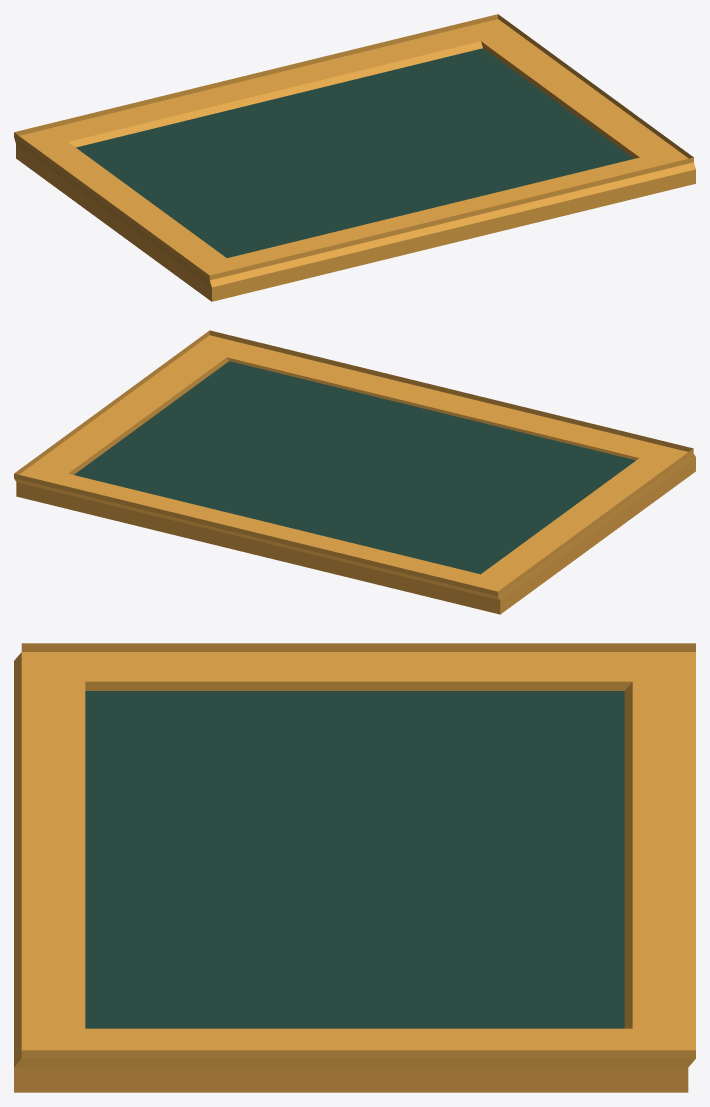
File: chalkboard.glb
The picture shows the model from 3 angles, top to bottom: view 1: azimuth 30°, elevation 25°; view 2: azimuth 150°, elevation 25°; view 3: azimuth 270°, elevation 25°; orthographic projection. The views are drawn at different scales.
Visible parts, largest first — view 1: Cube; view 2: Cube; view 3: Cube.
Boxes of the visible parts, x1,y1,x2,y2 form: Cube: [14, 14, 695, 301]; Cube: [14, 330, 695, 614]; Cube: [14, 643, 695, 1092].
Bounding box in the file's own units: 3.52 × 0.171 × 2.49.
